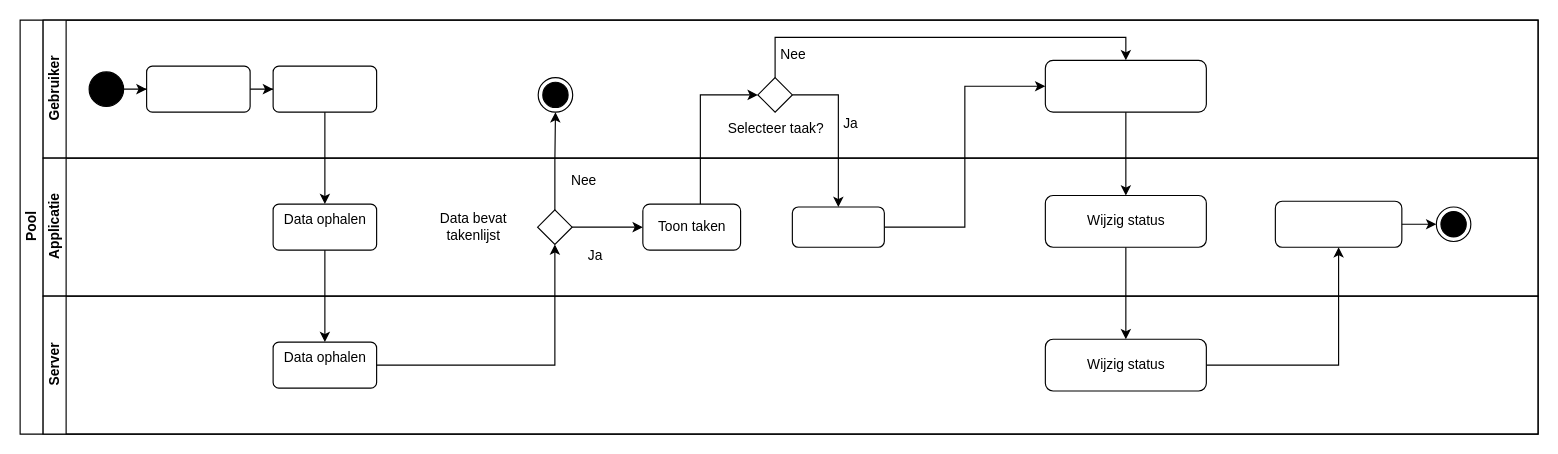
Some shapes in this 1558 by 454 pixel diagram are drawn without their labels. The centre of each missing label's shape, as x and y in pixels:
<<external>> Meld aan: point (324, 88)
Start applicatie: point (197, 88)
Start/stop/hervat/pauzeer taak: point (1125, 85)
Toon details taak: point (837, 226)
Toon wijziging: point (1338, 223)
